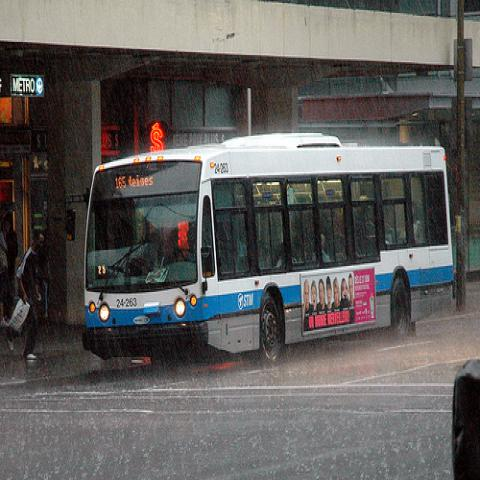bus: (85, 127, 455, 365)
